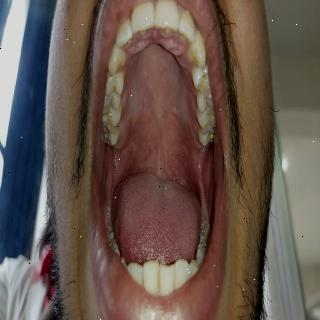maligned: (156, 257, 176, 297)
stains: (192, 62, 214, 96), (188, 48, 204, 66), (110, 128, 122, 150)
